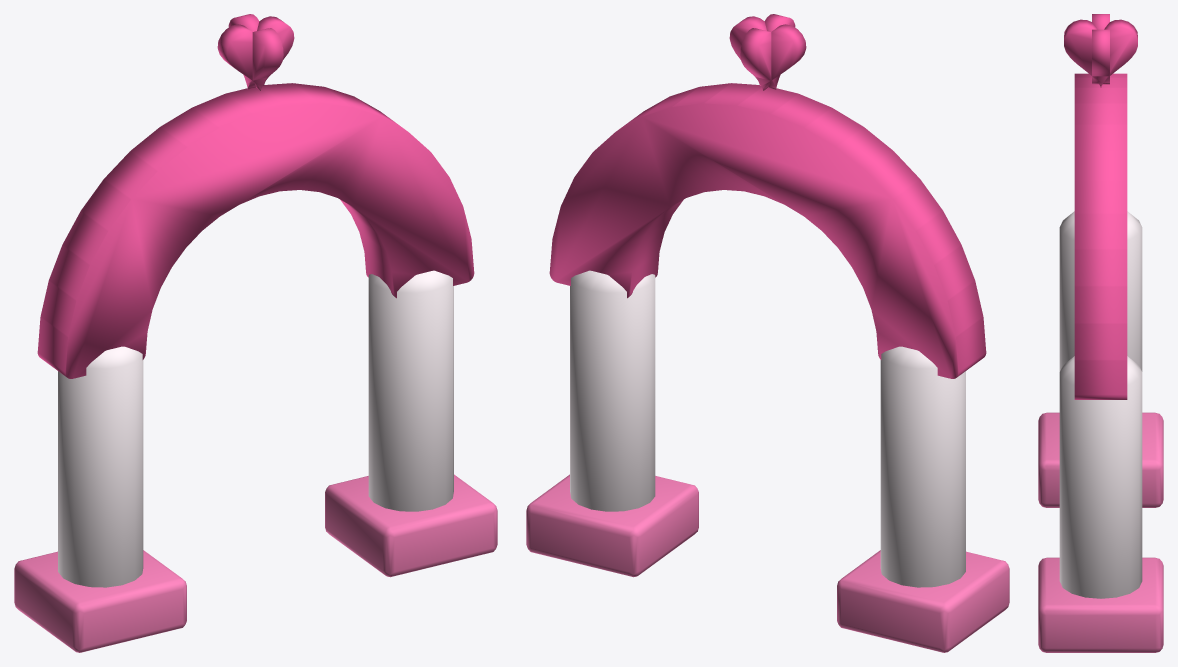
The model's file is facade_panicportal.obj.
3 renders of one model, left to right at view 1: azimuth 30°, elevation 25°; view 2: azimuth 150°, elevation 25°; view 3: azimuth 270°, elevation 25°, orthographic. The views are drawn at different scales.
Visible parts, largest first — view 1: Lintel, Pillars, Bases, Heart; view 2: Lintel, Pillars, Bases, Heart; view 3: Pillars, Lintel, Bases, Heart.
Boxes of the visible parts, x1,y1,x2,y2 form: Lintel: (37, 83, 474, 378); Pillars: (58, 270, 453, 587); Bases: (14, 474, 497, 652); Heart: (217, 14, 294, 90); Lintel: (549, 83, 986, 378); Pillars: (570, 270, 965, 587); Bases: (526, 474, 1009, 652); Heart: (729, 14, 806, 90); Pillars: (1059, 211, 1142, 598); Lintel: (1074, 73, 1127, 399); Bases: (1038, 412, 1163, 652); Heart: (1064, 14, 1137, 87).
Size of the model in its own units: 14.2 by 17.84 by 3.8.
